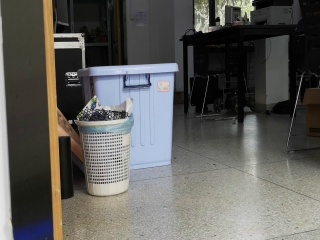room: (1, 3, 314, 218)
